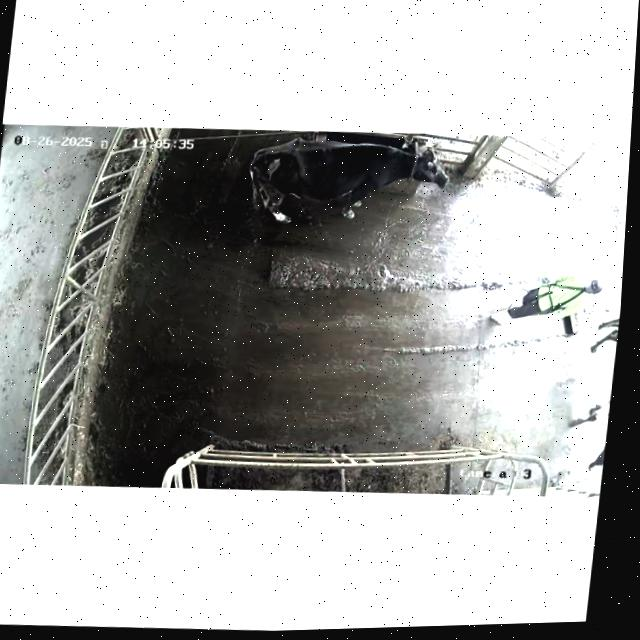stand: (232, 123, 472, 242), (570, 297, 621, 475)
